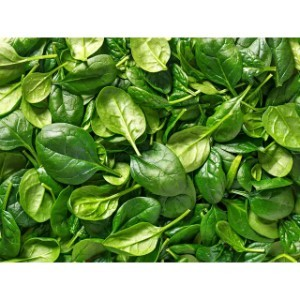spinach_brain food: (58, 77, 242, 232)
